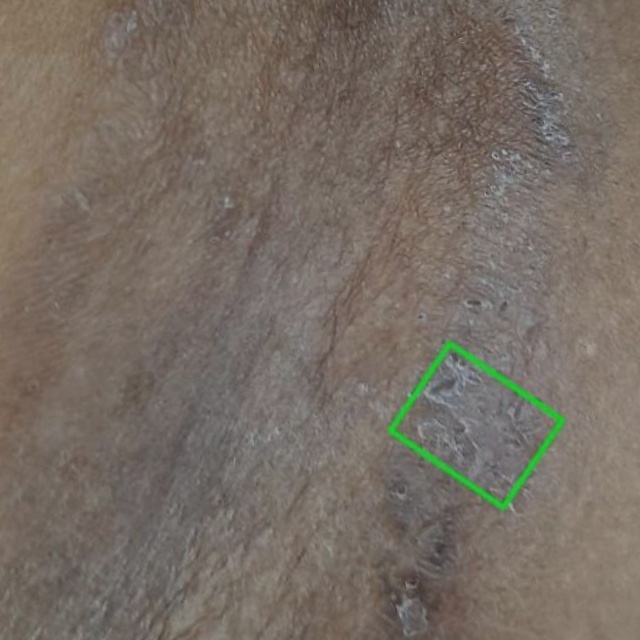Contact Dermatitis: (390, 343, 562, 507)
